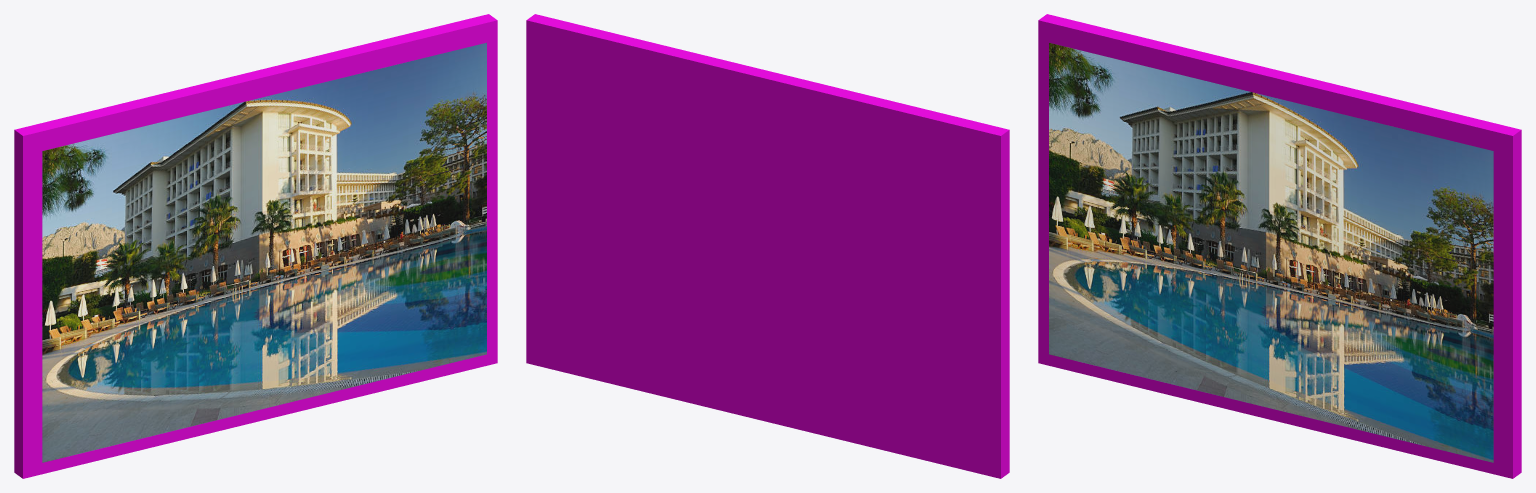
3 renders of one model, left to right at view 1: azimuth 30°, elevation 25°; view 2: azimuth 150°, elevation 25°; view 3: azimuth 330°, elevation 25°, orthographic.
Visible parts, largest first — view 1: PhotoPlane, PhotoBorder; view 2: PhotoBorder; view 3: PhotoPlane, PhotoBorder.
Boxes of the visible parts, x1,y1,x2,y2 form: PhotoPlane: (42,42,486,462); PhotoBorder: (14,14,497,478); PhotoBorder: (526,14,1009,478); PhotoPlane: (1049,42,1493,462); PhotoBorder: (1038,14,1521,478).
Bounding box in the file's own units: 15.93 × 11 × 0.75.
Materials: 2 (1 with a texture image).
